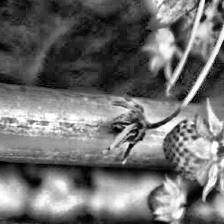Gray Mold: (102, 94, 173, 161)
